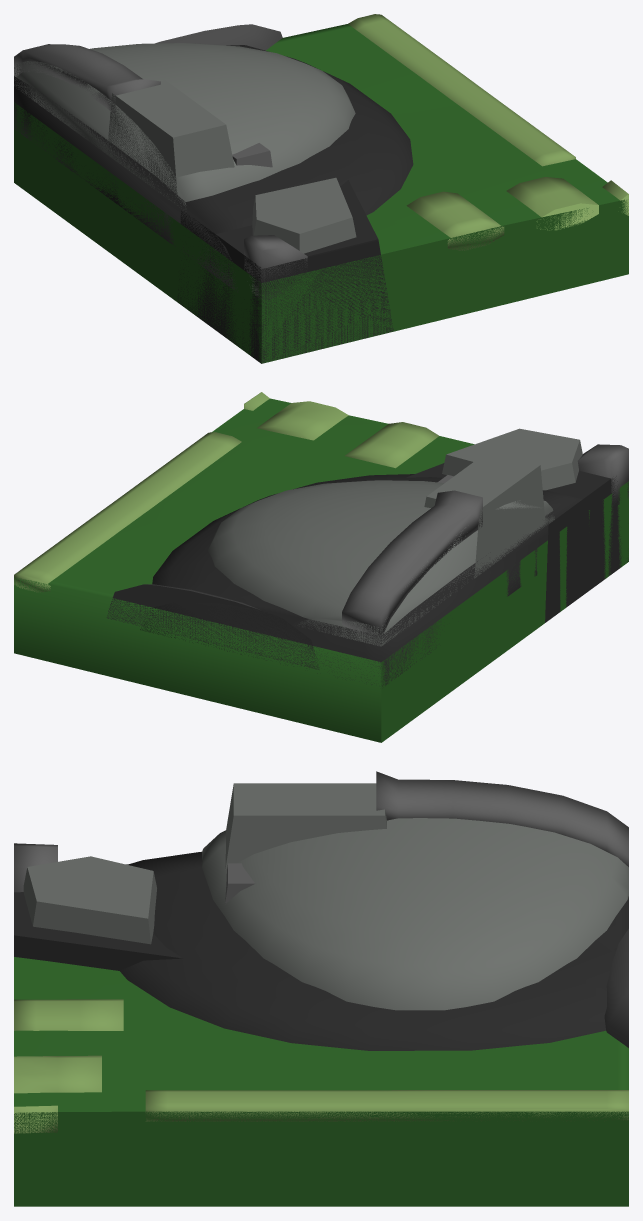
The model's file is newshj-163-f3.glb.
The picture shows the model from 3 angles, top to bottom: view 1: azimuth 30°, elevation 25°; view 2: azimuth 150°, elevation 25°; view 3: azimuth 270°, elevation 25°; orthographic projection. The views are drawn at different scales.
Parts seen in each view (by area): view 1: newshj-163-f3; view 2: newshj-163-f3; view 3: newshj-163-f3.
Boxes of the visible parts, left/top/right/bottom form: newshj-163-f3: left=14, top=14, right=628, bottom=363; newshj-163-f3: left=14, top=392, right=628, bottom=742; newshj-163-f3: left=14, top=771, right=628, bottom=1206.
Bounding box in the file's own units: 2 × 0.8899 × 2.33.
